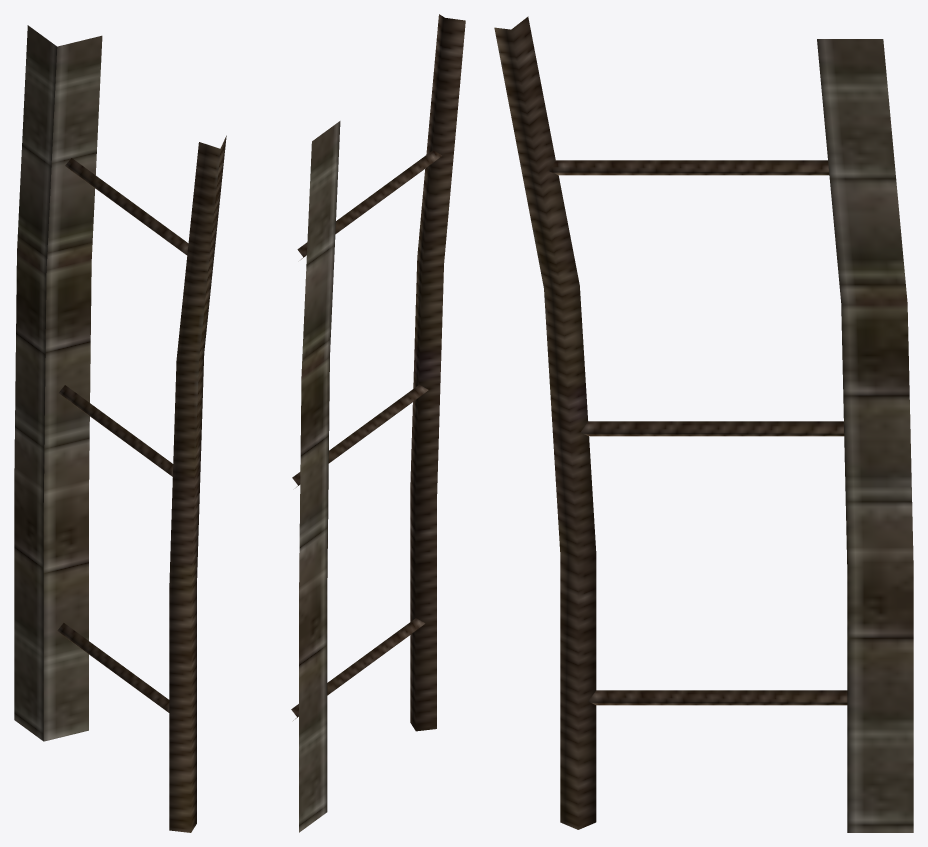
3 renders of one model, left to right at view 1: azimuth 30°, elevation 25°; view 2: azimuth 150°, elevation 25°; view 3: azimuth 270°, elevation 25°, orthographic. The views are drawn at different scales.
Parts seen in each view (by area): view 1: model_Object14; view 2: model_Object14; view 3: model_Object14.
Part boxes in pixels (x1,y1,x2,y2): model_Object14: [14, 25, 226, 832]; model_Object14: [291, 14, 465, 832]; model_Object14: [494, 16, 913, 832].
Bounding box in the file's own units: 0.2013 × 3.04 × 1.44.
Materials: 1 (1 with a texture image).
